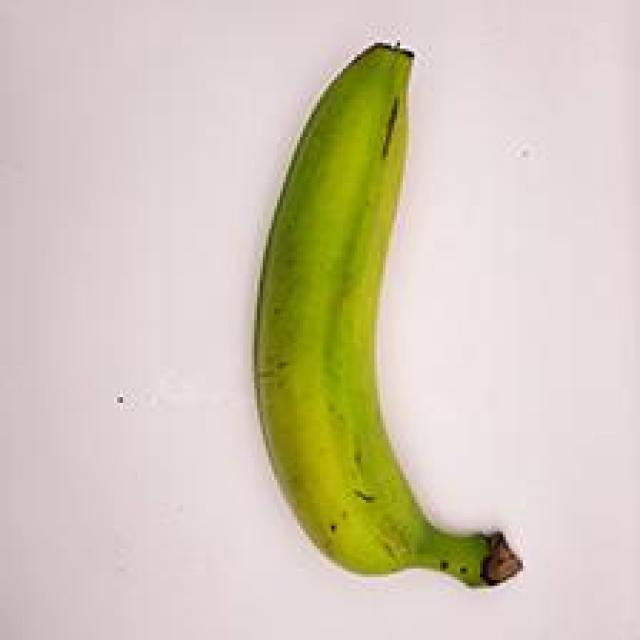Unripe: (212, 25, 540, 596)
